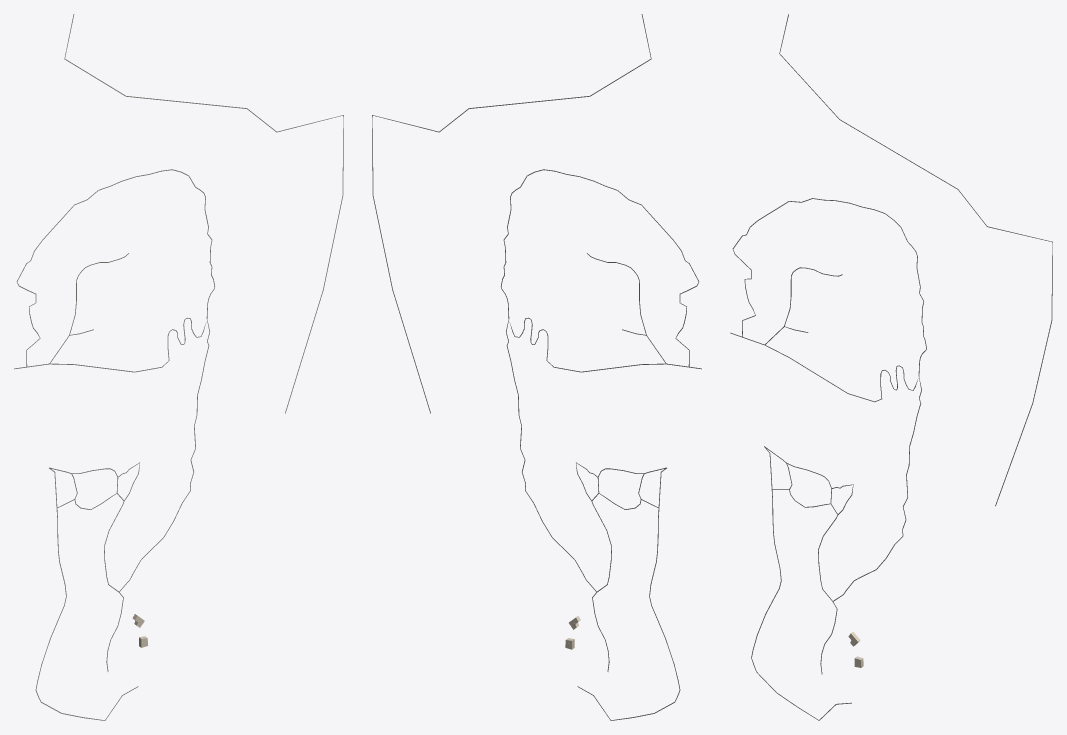
File: historic-palestine-13_31_3552_3259.glb
3 renders of one model, left to right at view 1: azimuth 30°, elevation 25°; view 2: azimuth 150°, elevation 25°; view 3: azimuth 330°, elevation 25°, orthographic. The views are drawn at different scales.
Parts seen in each view (by area): view 1: Road .010, Road, Road .008; view 2: Road .010, Road, Road .008; view 3: Road .010, Road, Road .008.
Part boxes in pixels (bbox=[...]): Road .010: bbox=[64, 14, 343, 413]; Road: bbox=[14, 317, 209, 591]; Road .008: bbox=[16, 169, 215, 366]; Road .010: bbox=[372, 14, 651, 413]; Road: bbox=[506, 317, 701, 591]; Road .008: bbox=[500, 169, 699, 366]; Road .010: bbox=[779, 14, 1052, 506]; Road: bbox=[730, 332, 921, 601]; Road .008: bbox=[732, 198, 926, 375].
Size of the model in its own units: 564 by 1169 by 8.7.
